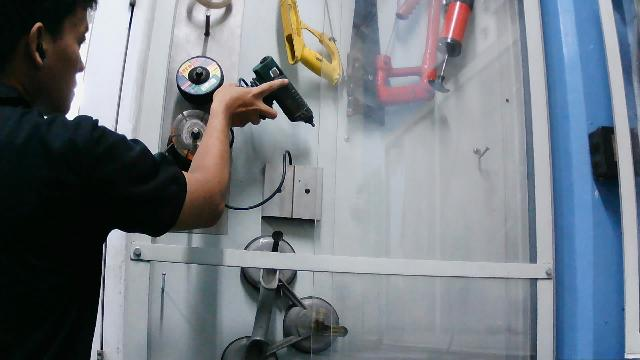gun_lem: (226, 54, 317, 145)
